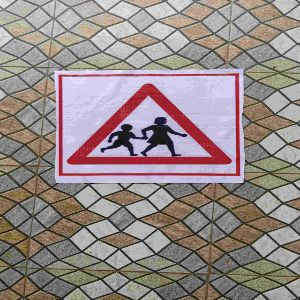schools: (62, 79, 237, 175)
